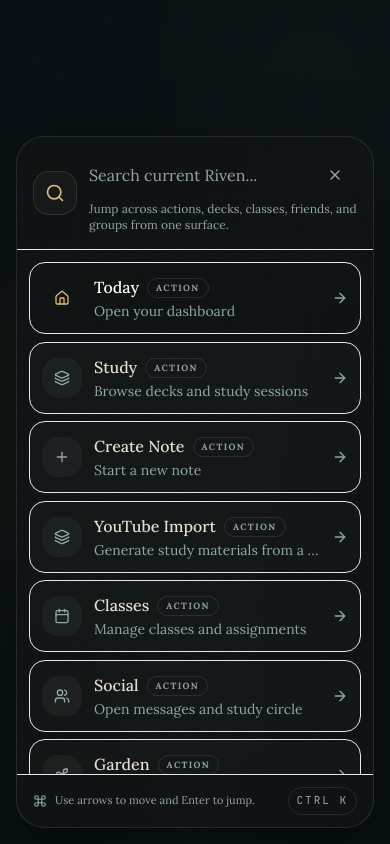
GlobalCommandPalette › surfaces cross-workspace actions and filters live results
Expected: the text "Today" is shown, [94,275,139,300]
Expected: the text "Create Note" is shown, [94,434,184,460]
In the field with placeholder "Search current Riven...": (197, 175) [89,163,305,187], type "bianca"
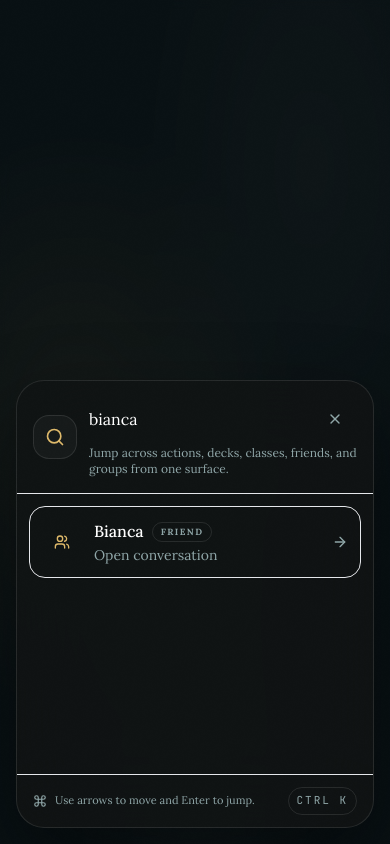
Expected: the text "Bianca" is shown, [94,519,144,545]
Expected: the button "Today" is gone
